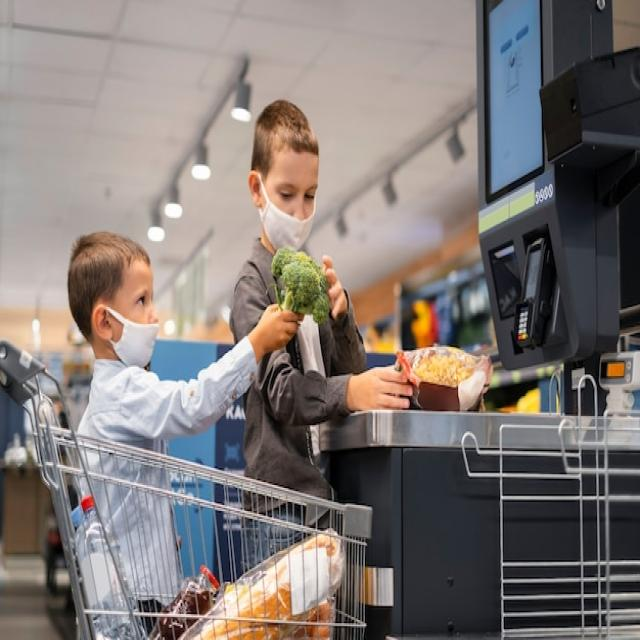Person: (66, 227, 300, 640), (228, 97, 414, 574)
